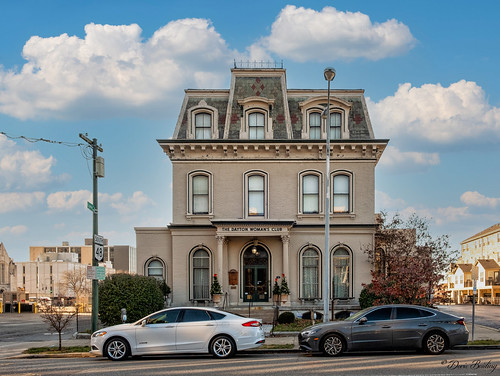low: (153, 59, 393, 335)
